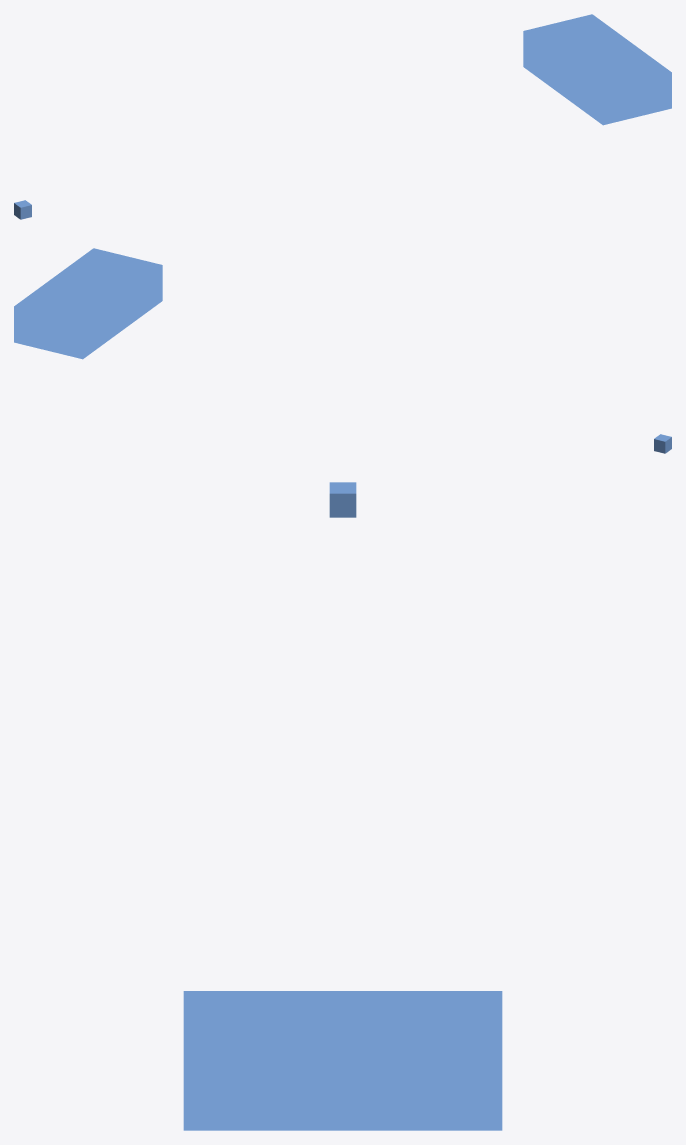
The model's file is deneme.glb.
The picture shows the model from 3 angles, top to bottom: view 1: azimuth 30°, elevation 25°; view 2: azimuth 150°, elevation 25°; view 3: azimuth 270°, elevation 25°; orthographic projection. The views are drawn at different scales.
Parts seen in each view (by area): view 1: COL_kutu; view 2: COL_kutu; view 3: COL_kutu, fazla.
Part boxes in pixels (left/top/right/bottom): COL_kutu: left=523, top=14, right=671, bottom=125; COL_kutu: left=14, top=248, right=162, bottom=359; COL_kutu: left=183, top=991, right=502, bottom=1130; fazla: left=329, top=482, right=356, bottom=517.
Size of the model in its own units: 1.07 by 0.06 by 0.24.
